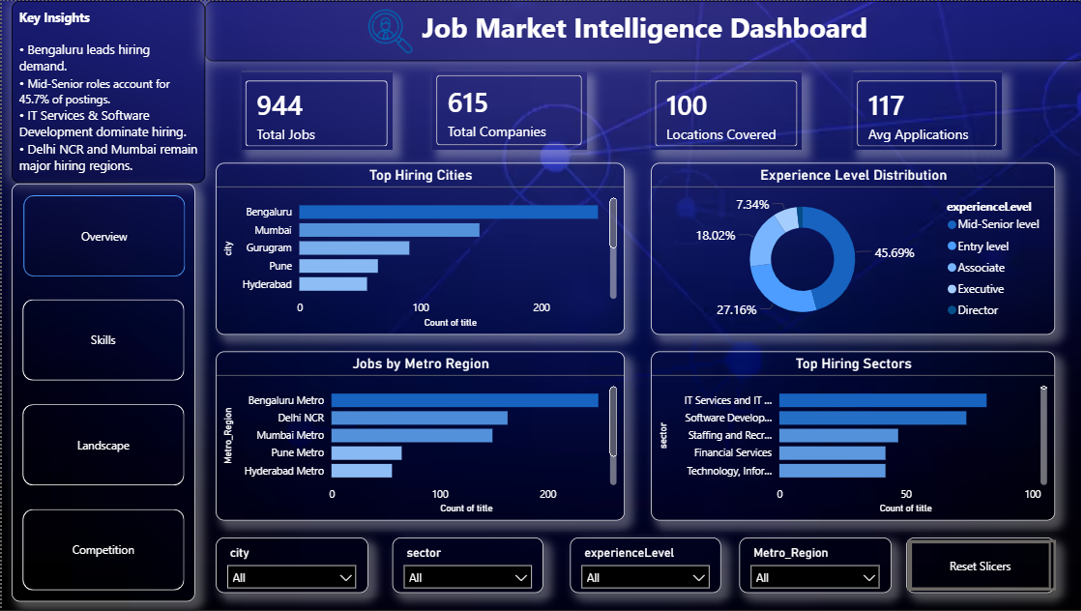

The dashboard page shown, as its layout file describes it:
{"tool":"powerbi","page":{"name":"Overview","canvas":[1280,720],"ordinal":0},"visuals":[{"type":"textbox","box":[240.1,0,1040.1,71.4],"z":0},{"type":"cardVisual","fields":{"Data":["LinkedIn_Jobs_Final.Total Jobs"]},"box":[282.7,82.3,178.4,93.3],"z":1000},{"type":"cardVisual","title":"Total Companies","fields":{"Data":["LinkedIn_Jobs_Final.Total Companies"]},"box":[509.1,82.3,182.5,93.3],"z":2000},{"type":"cardVisual","fields":{"Data":["LinkedIn_Jobs_Final.Total Cities"]},"box":[767.1,82.3,178.4,93.3],"z":3000},{"type":"cardVisual","fields":{"Data":["LinkedIn_Jobs_Final.Avg Applications"]},"box":[1005.8,82.3,175.6,93.3],"z":4000},{"type":"clusteredBarChart","title":"Top Hiring Cities","fields":{"Category":["LinkedIn_Jobs_Final.city"],"Y":["CountNonNull(LinkedIn_Jobs_Final.title)"]},"box":[252.5,190.7,483,203.1],"z":5000},{"type":"donutChart","title":"Experience Level Distribution","fields":{"Y":["CountNonNull(LinkedIn_Jobs_Final.title)"],"Category":["LinkedIn_Jobs_Final.experienceLevel"]},"box":[767.1,190.7,477.5,203.1],"z":6000},{"type":"clusteredBarChart","title":"Jobs by Metro Region","fields":{"Category":["LinkedIn_Jobs_Final.Metro_Region"],"Y":["CountNonNull(LinkedIn_Jobs_Final.title)"]},"box":[252.5,414.4,483,200.3],"z":7000},{"type":"slicer","fields":{"Values":["LinkedIn_Jobs_Final.city"]},"box":[252.5,634,179.8,65.9],"z":8000},{"type":"slicer","fields":{"Values":["LinkedIn_Jobs_Final.sector"]},"box":[461.1,634,178.4,65.9],"z":9000},{"type":"slicer","fields":{"Values":["LinkedIn_Jobs_Final.experienceLevel"]},"box":[671,634,178.4,65.9],"z":10000},{"type":"slicer","fields":{"Values":["LinkedIn_Jobs_Final.Metro_Region"]},"box":[871.4,634,179.8,65.9],"z":11000},{"type":"image","box":[424,9.6,70,52.1],"z":12000},{"type":"pageNavigator","box":[11.4,215.7,217.1,494.3],"z":13000},{"type":"actionButton","box":[1069,634,175.6,65.9],"z":14000},{"type":"barChart","title":"Top Hiring Sectors","fields":{"Category":["LinkedIn_Jobs_Final.sector"],"Y":["CountNonNull(LinkedIn_Jobs_Final.title)"]},"box":[767.1,414.4,477.5,200.3],"z":15000},{"type":"textbox","box":[11,0,229.2,215.4],"z":16000},{"type":"actionButton","box":[1070,637.1,175.7,60],"z":17000}]}

Visuals, with their boxes in screenshot pixels (x1, y1, x2, y2), scaled from the page's 1280x720 canvas onto the 1081x611 screenshot:
textbox: box=[203, 0, 1080, 61]
cardVisual - LinkedIn_Jobs_Final.Total Jobs: box=[239, 70, 389, 149]
"Total Companies" cardVisual: box=[430, 70, 584, 149]
cardVisual - LinkedIn_Jobs_Final.Total Cities: box=[648, 70, 799, 149]
cardVisual - LinkedIn_Jobs_Final.Avg Applications: box=[849, 70, 998, 149]
"Top Hiring Cities" clusteredBarChart: box=[213, 162, 621, 334]
"Experience Level Distribution" donutChart: box=[648, 162, 1051, 334]
"Jobs by Metro Region" clusteredBarChart: box=[213, 352, 621, 522]
slicer - LinkedIn_Jobs_Final.city: box=[213, 538, 365, 594]
slicer - LinkedIn_Jobs_Final.sector: box=[389, 538, 540, 594]
slicer - LinkedIn_Jobs_Final.experienceLevel: box=[567, 538, 717, 594]
slicer - LinkedIn_Jobs_Final.Metro_Region: box=[736, 538, 888, 594]
image: box=[358, 8, 417, 52]
pageNavigator: box=[10, 183, 193, 603]
actionButton: box=[903, 538, 1051, 594]
"Top Hiring Sectors" barChart: box=[648, 352, 1051, 522]
textbox: box=[9, 0, 203, 183]
actionButton: box=[904, 541, 1052, 592]
